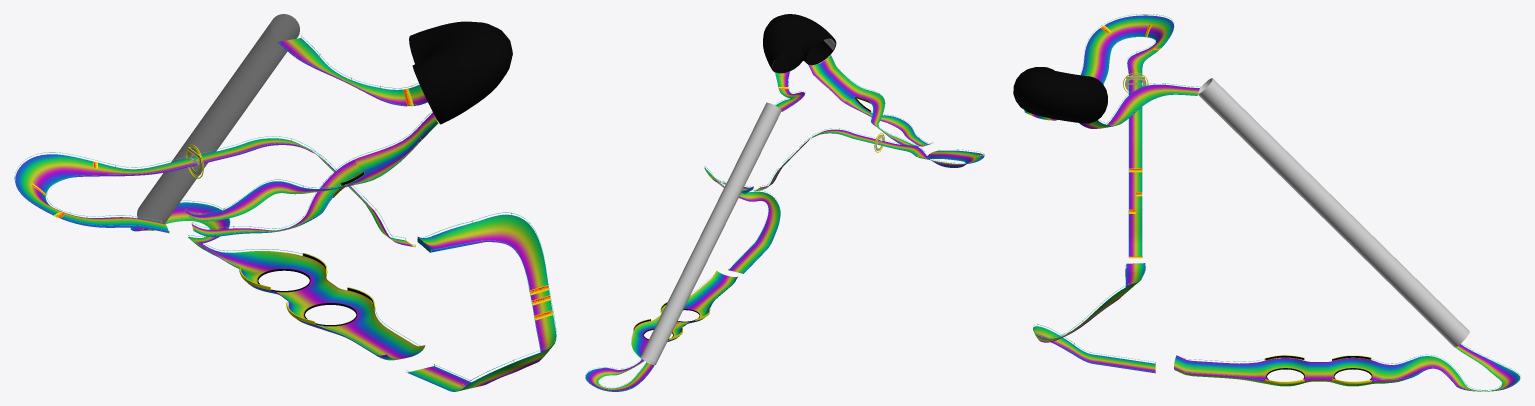
The model's file is Space Track.fbx.
The picture shows the model from 3 angles, left to right: view 1: azimuth 30°, elevation 25°; view 2: azimuth 150°, elevation 25°; view 3: azimuth 270°, elevation 25°; orthographic projection. The views are drawn at different scales.
Visible parts, largest first — view 1: Track_main, Track5, side_27; view 2: Track_main, Track5, side_27; view 3: Track_main, Track5, side_27.
Boxes of the visible parts, x1,y1,x2,y2 form: Track_main: [15, 14, 512, 360]; Track5: [407, 214, 556, 391]; side_27: [14, 35, 554, 389]; Track_main: [585, 14, 984, 391]; Track5: [704, 168, 780, 273]; side_27: [585, 54, 984, 390]; Track_main: [1013, 15, 1520, 391]; Track5: [1033, 268, 1155, 373]; side_27: [1024, 14, 1520, 391].
Bounding box in the file's own units: 25463 × 20810 × 31050.
